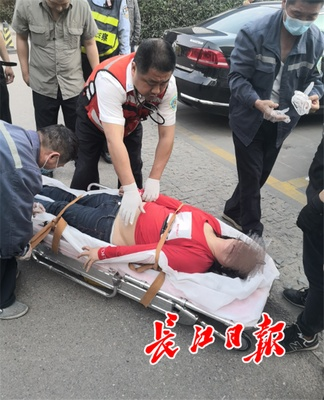falling: (15, 173, 277, 280)
